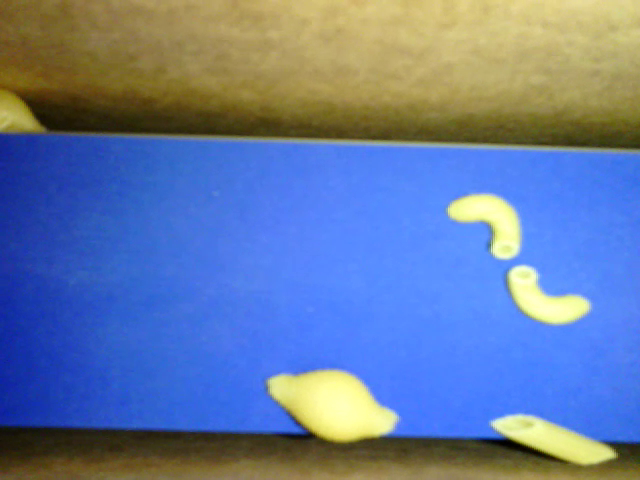elbow: (506, 263, 593, 326), (446, 193, 522, 259), (1, 109, 13, 131)
penne: (488, 414, 616, 467)
shell: (267, 366, 399, 445), (1, 88, 54, 134)
